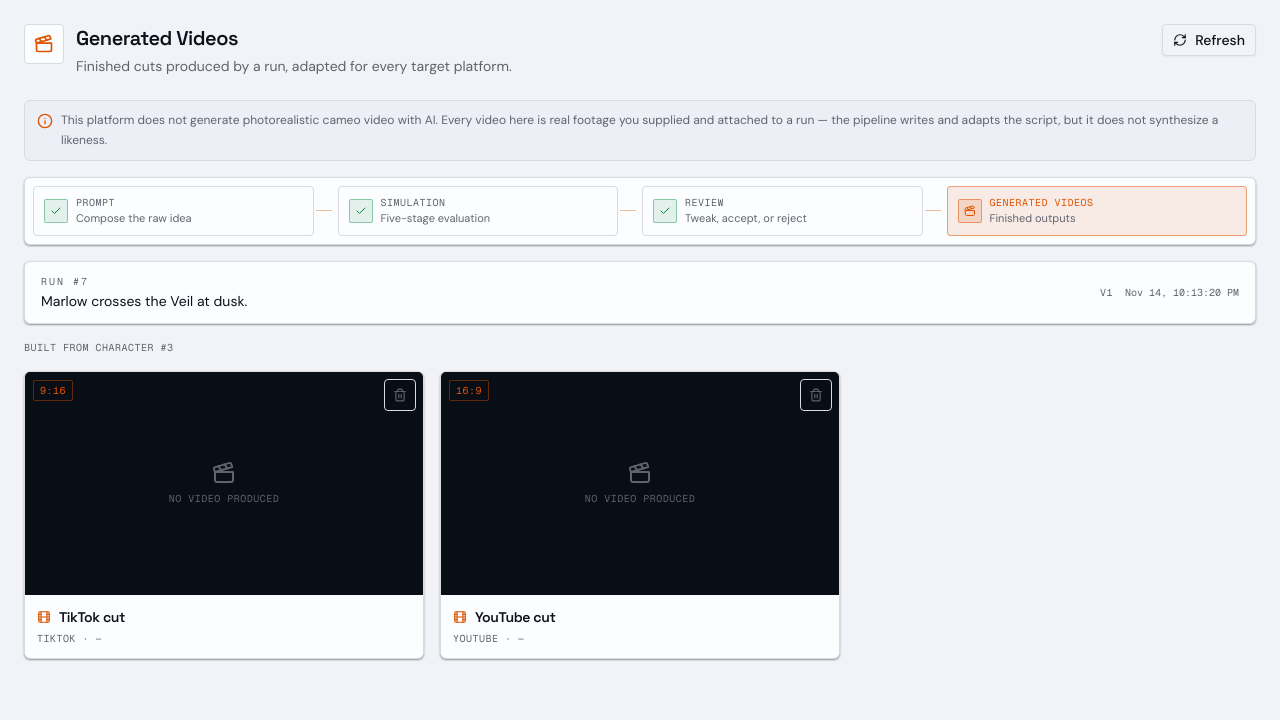
videos generating-state characterization › keeps the run's script available in the detail view when its artifact is gone
Click the button with test id "videos.item.1".
click(224, 515)  # box [24, 370, 424, 659]
(page scrolled)
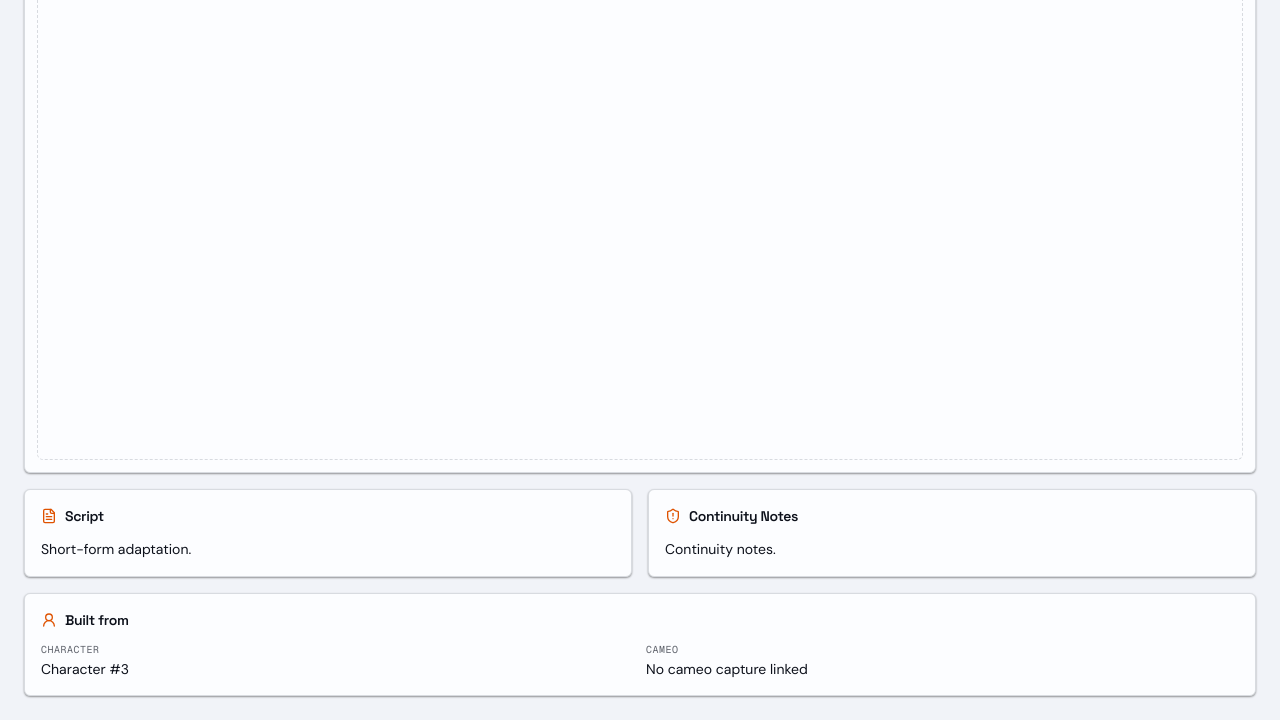
Expected: the element with test id "videos.detail.script.section" shows "Short-form adaptation.", [41, 540, 191, 558]
Expected: the element with test id "videos.detail.continuity.section" shows "Continuity notes.", [665, 540, 776, 558]
